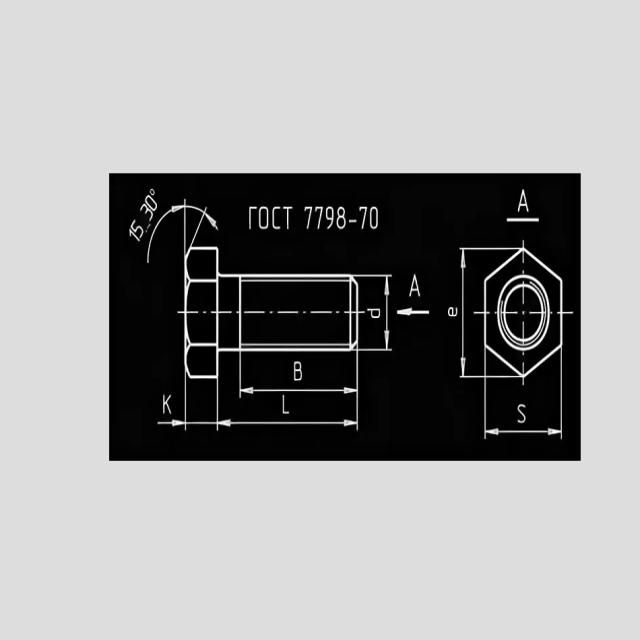marking_line: (238, 352, 356, 398), (218, 394, 359, 431), (482, 379, 565, 441), (458, 248, 483, 381), (160, 199, 224, 246), (360, 273, 393, 353), (157, 374, 187, 431), (396, 308, 429, 316)
numeric: (507, 189, 541, 227), (409, 273, 420, 299), (283, 206, 293, 232), (314, 207, 325, 229), (247, 206, 257, 230), (292, 360, 304, 380), (140, 204, 154, 221), (369, 206, 379, 229), (271, 207, 281, 230), (259, 206, 269, 229), (162, 393, 172, 415), (358, 205, 367, 229), (131, 222, 144, 238), (145, 196, 158, 212), (337, 206, 346, 229), (303, 206, 312, 229), (325, 206, 334, 228), (367, 307, 382, 319), (128, 231, 140, 245)
special_symbol: (149, 188, 156, 198)
